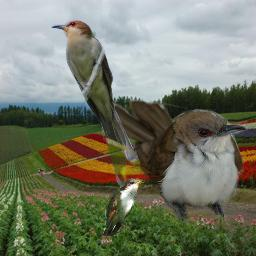Cuckoo: (105, 99, 248, 227), (51, 19, 140, 187), (103, 178, 145, 236)
